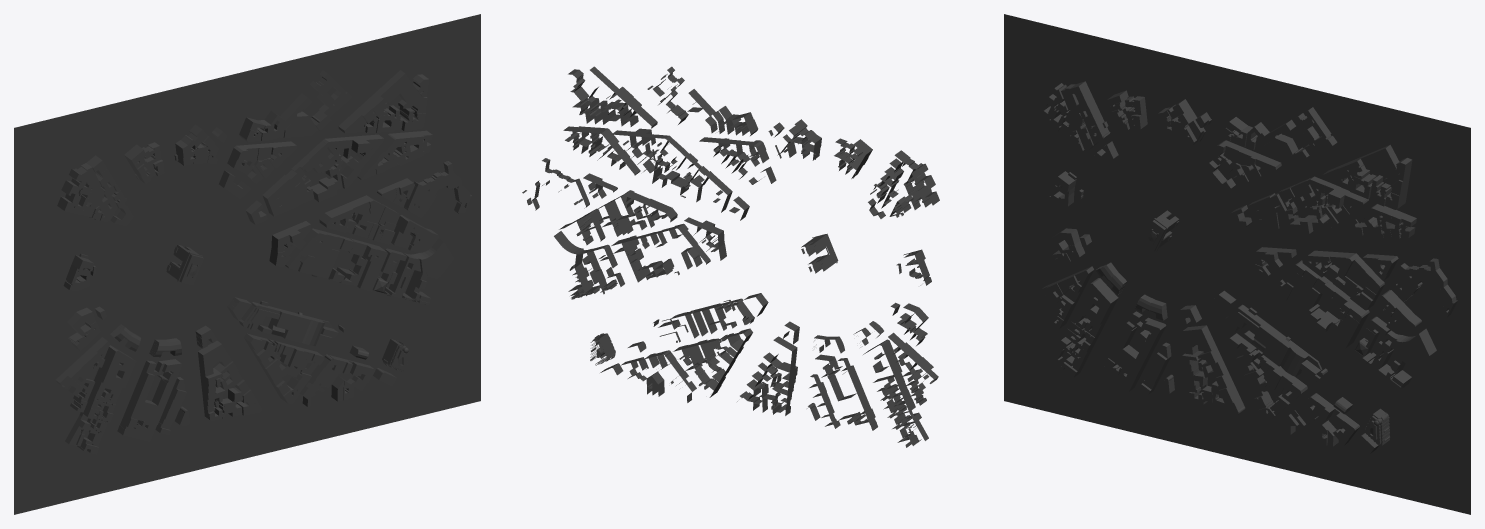
3 views of the same model, side by side, from view 1: azimuth 30°, elevation 25°; view 2: azimuth 150°, elevation 25°; view 3: azimuth 330°, elevation 25° (orthographic).
Parts seen in each view (by area): view 1: world; view 2: world; view 3: world.
Boxes of the visible parts, x1,y1,x2,y2 form: world: (14, 14, 480, 514); world: (522, 66, 939, 447); world: (1004, 14, 1470, 514).
Size of the model in its own units: 854 by 676 by 50.
Materials: 1 (1 with a texture image).
